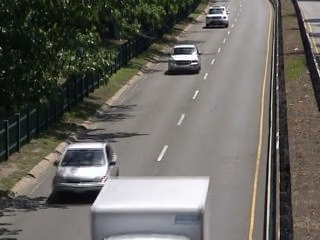car: (51, 137, 126, 197), (165, 41, 204, 78), (202, 4, 237, 33)
truck: (86, 173, 224, 240)
